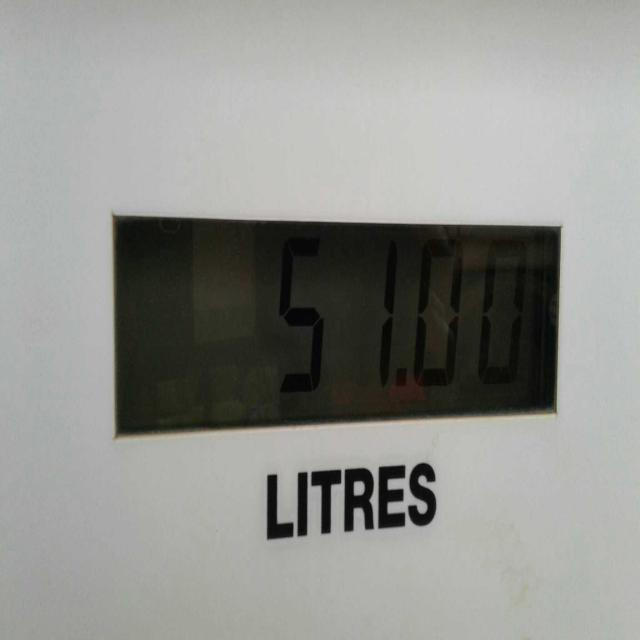.: (391, 354, 413, 401)
0: (473, 227, 543, 424), (411, 228, 470, 412)
1: (353, 228, 403, 421)
5: (269, 221, 341, 414)
